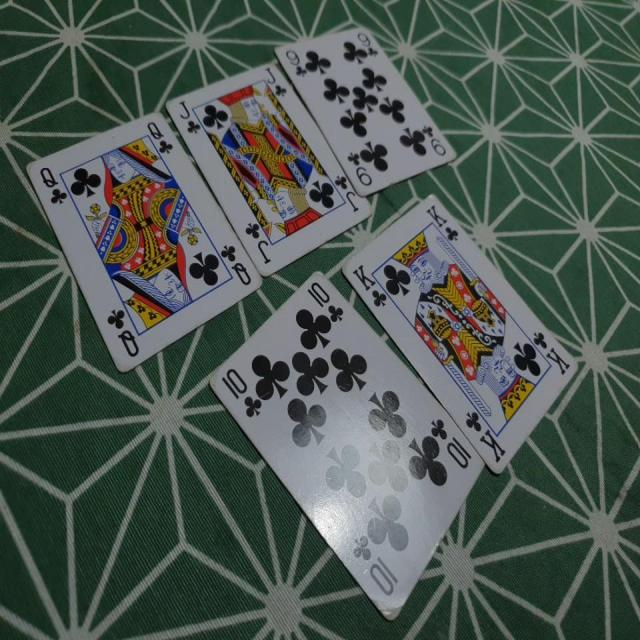10 Trefoils: (210, 268, 488, 620)
9 Trefoils: (272, 26, 457, 197)
J Trefoils: (162, 59, 374, 276)
K Trefoils: (340, 191, 579, 475)
Q Trefoils: (24, 106, 263, 373)
